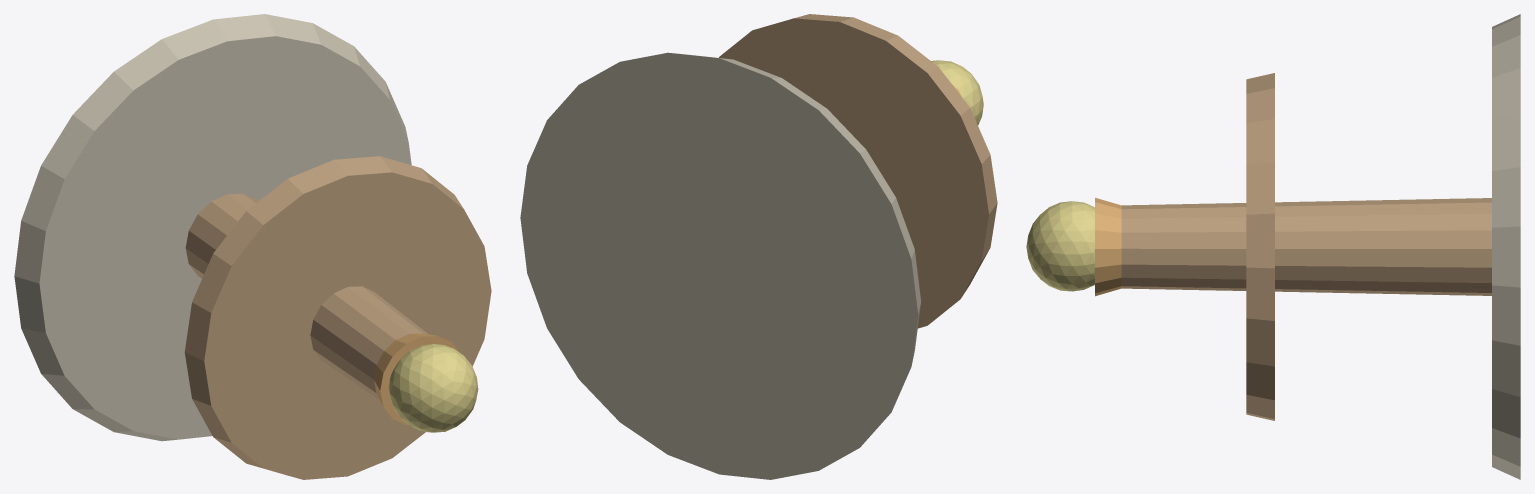
Rendered from relay.glb.
The picture shows the model from 3 angles, left to right: view 1: azimuth 30°, elevation 25°; view 2: azimuth 150°, elevation 25°; view 3: azimuth 270°, elevation 25°; orthographic projection.
Visible parts, largest first — view 1: geometry_0; view 2: geometry_0; view 3: geometry_0.
Part boxes in pixels (<box>): geometry_0: <box>14,14,491,479</box>; geometry_0: <box>520,14,997,479</box>; geometry_0: <box>1026,14,1520,479</box>.
Bounding box in the file's own units: 3.6 × 3.6 × 3.8.
